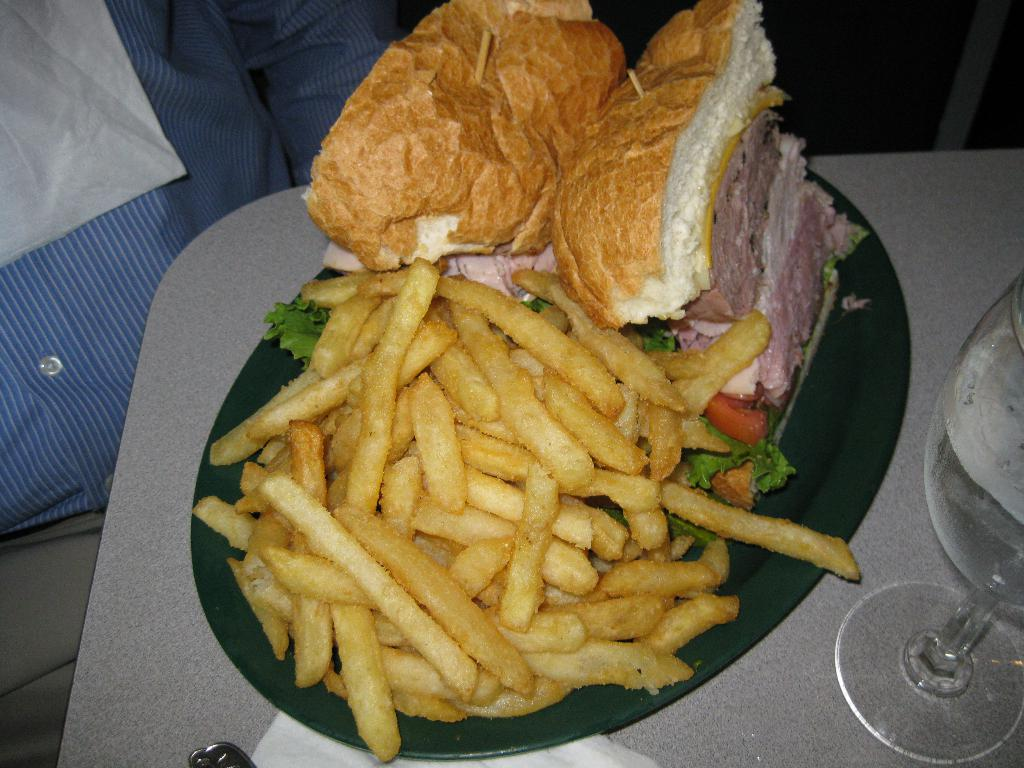French fries: (188, 236, 864, 762)
